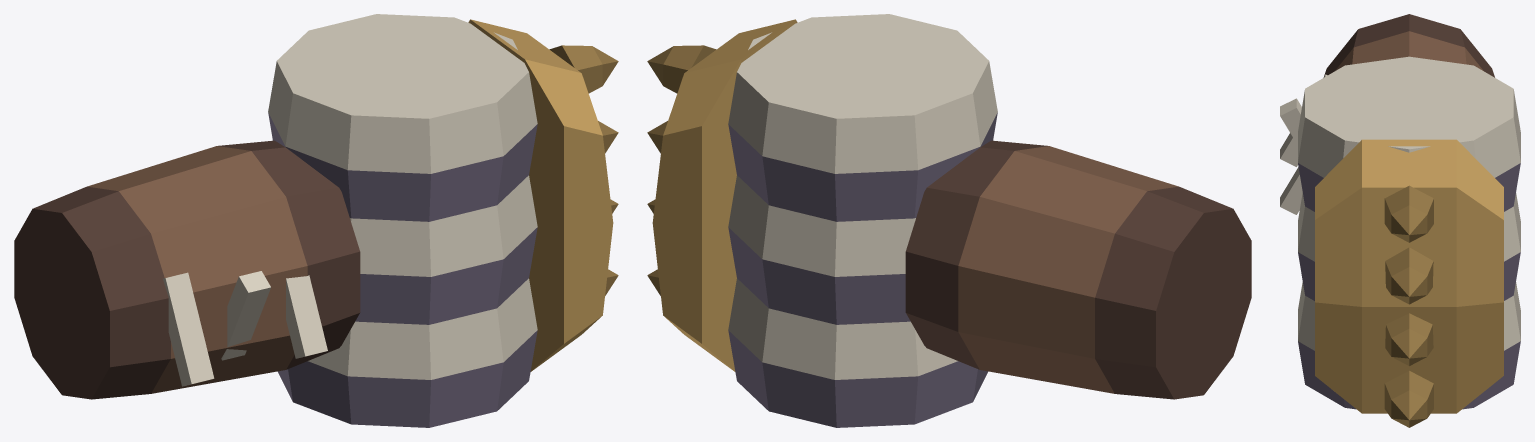
File: fist_wrap.glb
3 renders of one model, left to right at view 1: azimuth 30°, elevation 25°; view 2: azimuth 150°, elevation 25°; view 3: azimuth 270°, elevation 25°, orthographic. The views are drawn at different scales.
Visible parts, largest first — view 1: fist_wrap; view 2: fist_wrap; view 3: fist_wrap.
Part boxes in pixels (x1=…): fist_wrap: x1=14, y1=14, x2=618, y2=427; fist_wrap: x1=647, y1=14, x2=1251, y2=427; fist_wrap: x1=1280, y1=14, x2=1520, y2=427.
Bounding box in the file's own units: 0.294 × 0.16 × 0.1273.
